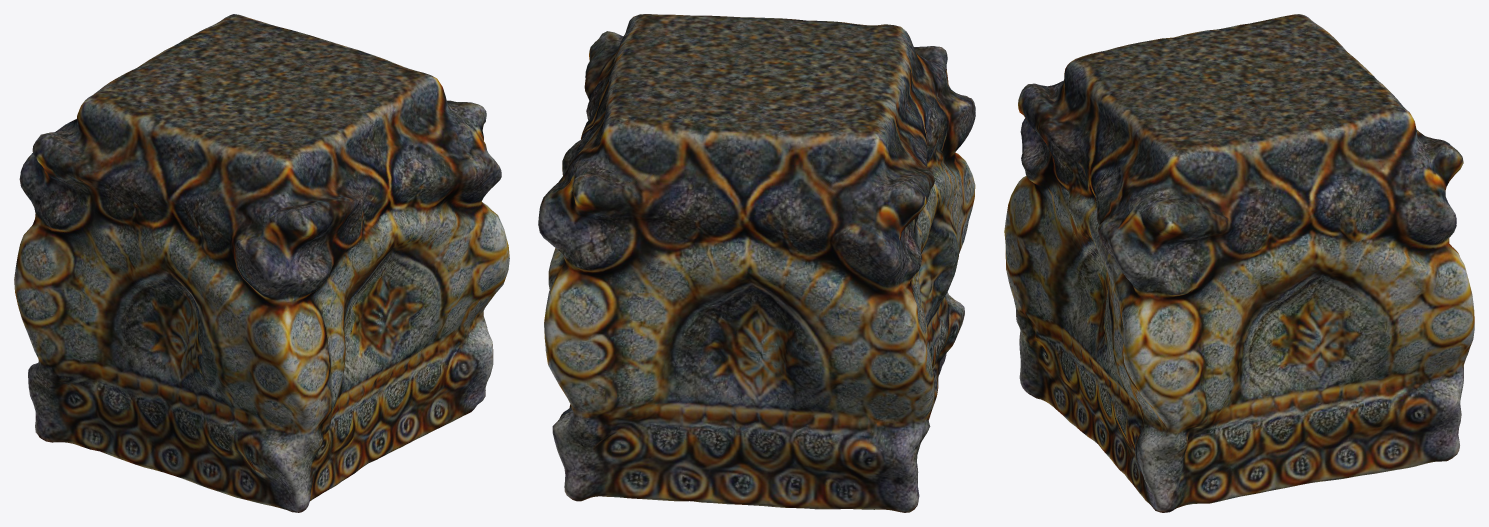
File: b100e7cdfdf9_Adorable_Wall_Brick.fbx
3 renders of one model, left to right at view 1: azimuth 30°, elevation 25°; view 2: azimuth 150°, elevation 25°; view 3: azimuth 270°, elevation 25°, orthographic. The views are drawn at different scales.
Parts seen in each view (by area): view 1: mesh; view 2: mesh; view 3: mesh.
Boxes of the visible parts, x1,y1,x2,y2 form: mesh: (14, 14, 509, 512); mesh: (538, 14, 975, 512); mesh: (1004, 14, 1474, 512).
Size of the model in its own units: 99.71 by 81.12 by 99.64.
